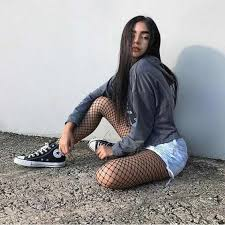person: (106, 13, 174, 96)
